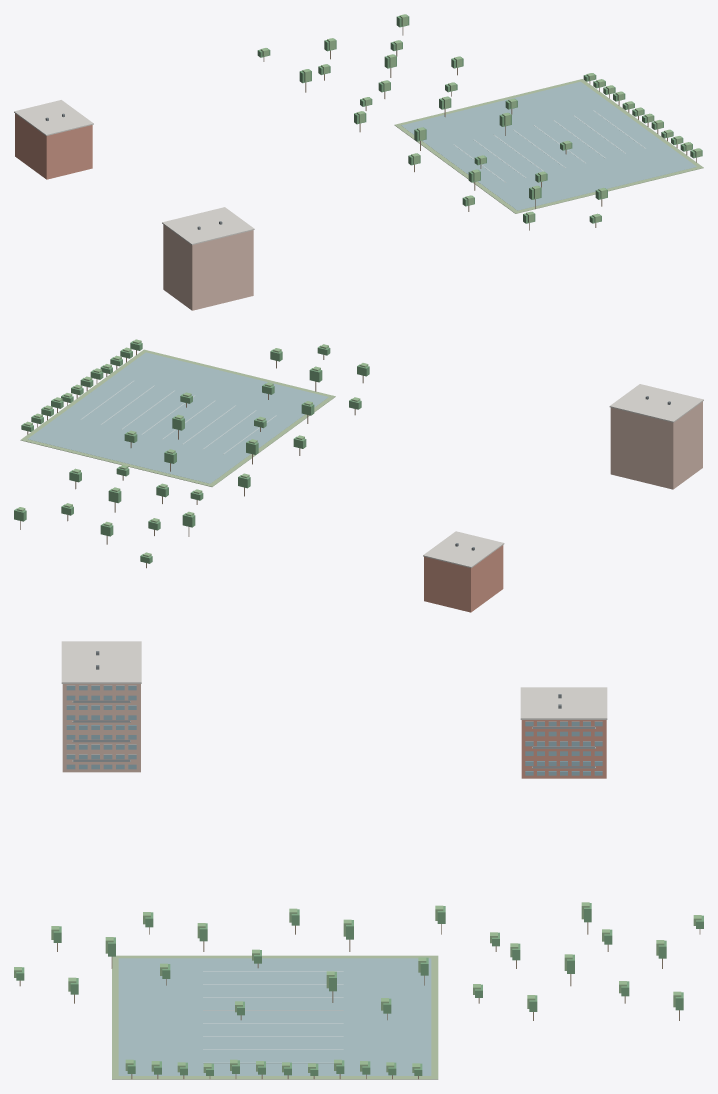
3 views of the same model, one above another, from view 1: azimuth 30°, elevation 25°; view 2: azimuth 150°, elevation 25°; view 3: azimuth 270°, elevation 25° (orthographic). The views are drawn at different scales.
Visible parts, largest first — view 1: Station 8 photo-informed architecture and surroundings; view 2: Station 8 photo-informed architecture and surroundings; view 3: Station 8 photo-informed architecture and surroundings.
Boxes of the visible parts, x1,y1,x2,y2 form: Station 8 photo-informed architecture and surroundings: (14, 14, 703, 310); Station 8 photo-informed architecture and surroundings: (14, 339, 703, 612); Station 8 photo-informed architecture and surroundings: (14, 641, 703, 1079).
Bounding box in the file's own units: 244 × 30.3 × 203.
